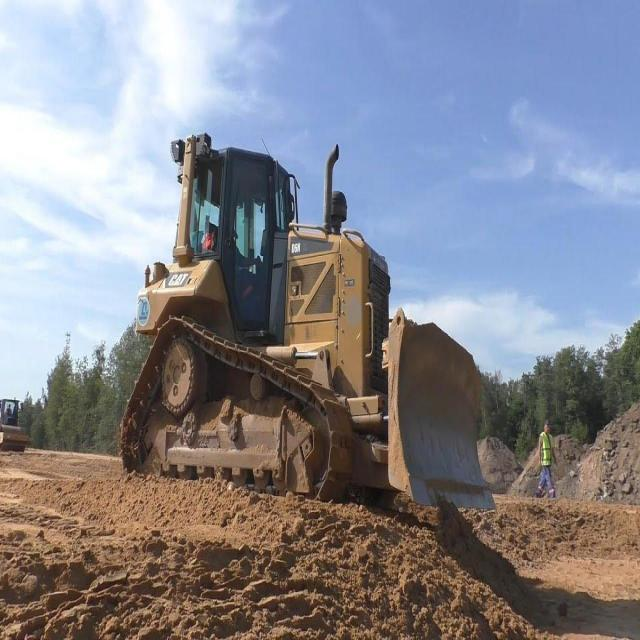Bulldozer: (113, 127, 510, 524)
